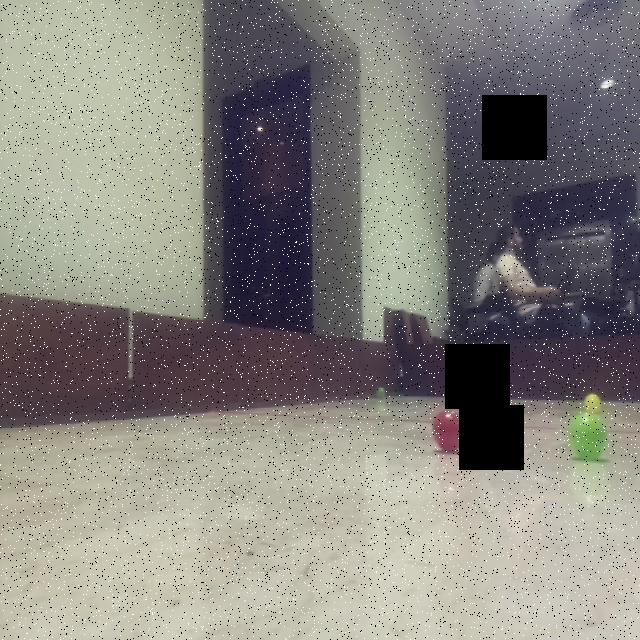ball: (569, 411, 609, 460), (431, 404, 466, 458), (580, 388, 608, 412), (372, 384, 390, 402)
